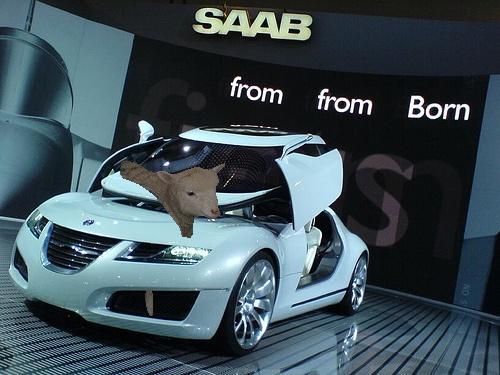tampered: (121, 162, 225, 316)
